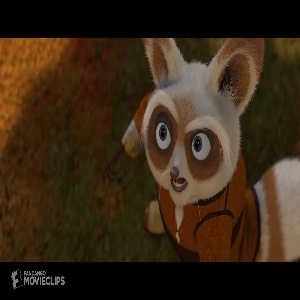shifu: (120, 38, 300, 262)
